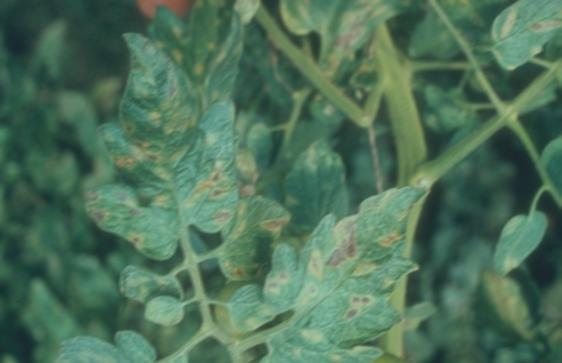Tomato mold leaf: (232, 183, 443, 363), (85, 26, 243, 260), (483, 0, 562, 71), (493, 201, 552, 283), (142, 289, 189, 327)
